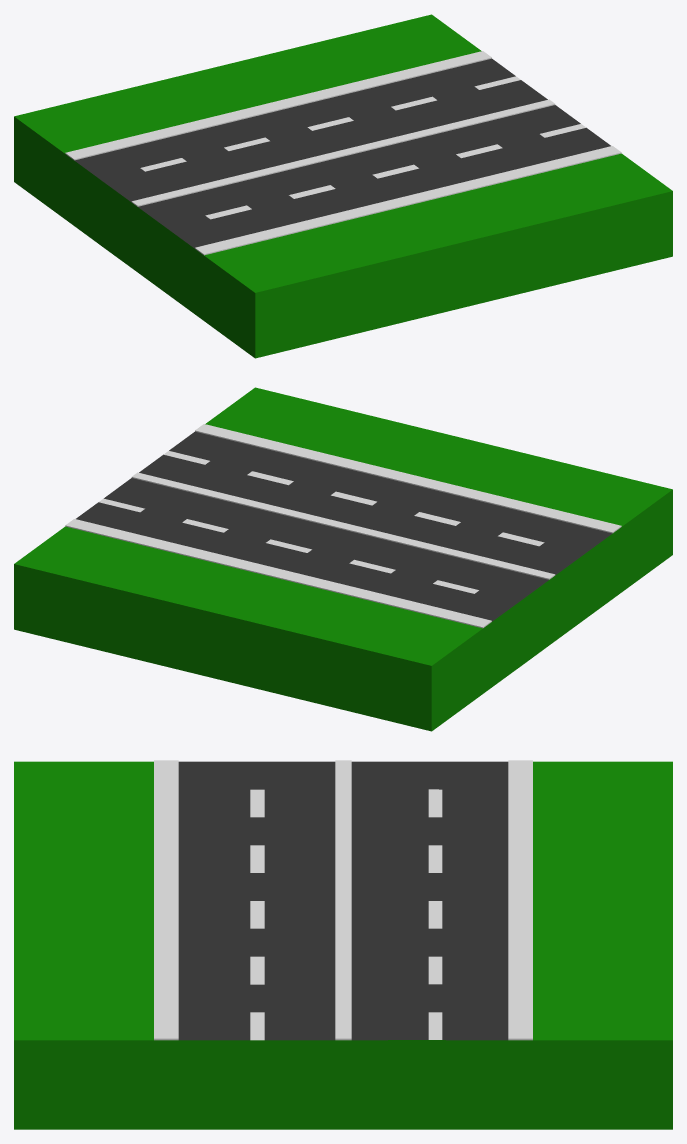
The model's file is S_DoubleRoad.fbx.
The picture shows the model from 3 angles, top to bottom: view 1: azimuth 30°, elevation 25°; view 2: azimuth 150°, elevation 25°; view 3: azimuth 270°, elevation 25°; orthographic projection. The views are drawn at different scales.
Visible parts, largest first — view 1: Cube; view 2: Cube; view 3: Cube.
Boxes of the visible parts, box(x1,y1,x2,y2) form: Cube: box(14, 14, 672, 358); Cube: box(14, 387, 672, 731); Cube: box(14, 760, 672, 1129).
Bounding box in the file's own units: 400 × 61 × 400.
